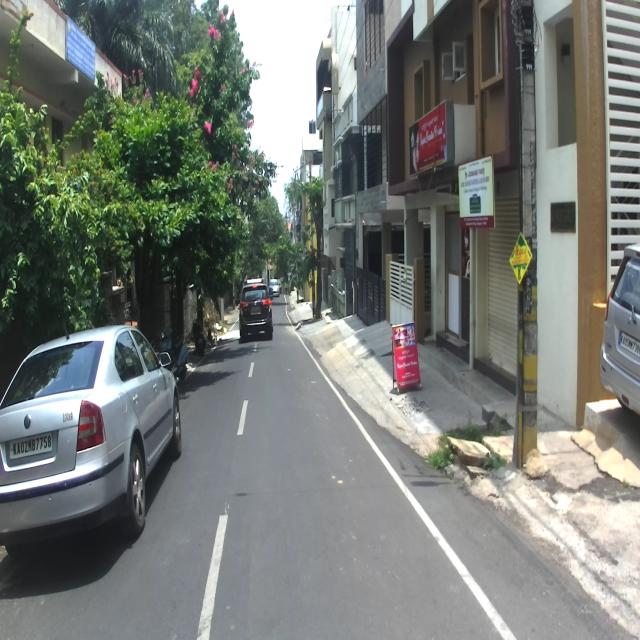car ahead at: (5, 331, 182, 536), (238, 277, 277, 335)
electric pole ahead at: (508, 0, 547, 468)
